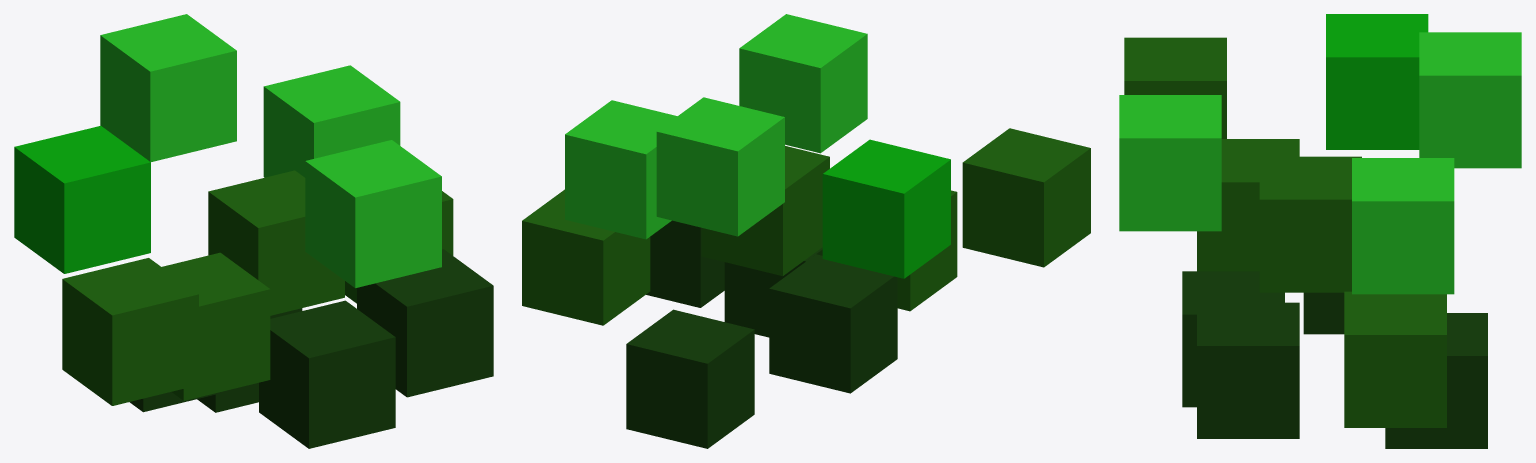
Rendered from foliage.fbx.
3 views of the same model, side by side, from view 1: azimuth 30°, elevation 25°; view 2: azimuth 150°, elevation 25°; view 3: azimuth 270°, elevation 25° (orthographic). The views are drawn at different scales.
Visible parts, largest first — view 1: Cube, Cube.001, Cube.006, Cube.008, Cube.010, Cube.005, Cube.011, Cube.012, Cube.009, Cube.004, Cube.007, Cube.003; view 2: Cube.001, Cube, Cube.004, Cube.008, Cube.003, Cube.006, Cube.007, Cube.012, Cube.011, Cube.005, Cube.010, Cube.009; view 3: Cube.005, Cube.006, Cube.012, Cube.007, Cube.008, Cube, Cube.011, Cube.009, Cube.004, Cube.001, Cube.010, Cube.003.
Part boxes in pixels (x1,y1,x2,y2): Cube: (14,126,150,273); Cube.001: (62,258,198,405); Cube.006: (305,140,441,288); Cube.008: (100,14,236,161); Cube.010: (259,300,395,448); Cube.005: (357,249,493,397); Cube.011: (208,170,344,315); Cube.012: (263,65,400,177); Cube.009: (162,252,270,400); Cube.004: (197,308,302,412); Cube.007: (345,191,453,303); Cube.003: (129,390,229,412); Cube.001: (962,128,1090,267); Cube: (822,139,950,278); Cube.004: (626,309,754,448); Cube.008: (656,97,784,236); Cube.003: (769,254,897,393); Cube.006: (739,14,867,153); Cube.007: (522,189,650,325); Cube.012: (565,100,677,239); Cube.011: (701,146,829,276); Cube.005: (646,220,724,307); Cube.010: (724,247,822,337); Cube.009: (897,190,957,311); Cube.005: (1197,302,1299,438); Cube.006: (1119,95,1221,231); Cube.012: (1352,158,1454,294); Cube.007: (1344,291,1446,427); Cube.008: (1419,32,1521,168); Cube: (1326,14,1428,149); Cube.011: (1259,156,1361,292); Cube.009: (1197,139,1299,271); Cube.004: (1385,313,1487,448); Cube.001: (1124,37,1226,138); Cube.010: (1182,271,1284,407); Cube.003: (1303,292,1344,334).
Size of the model in its own units: 1035 by 752 by 786.
